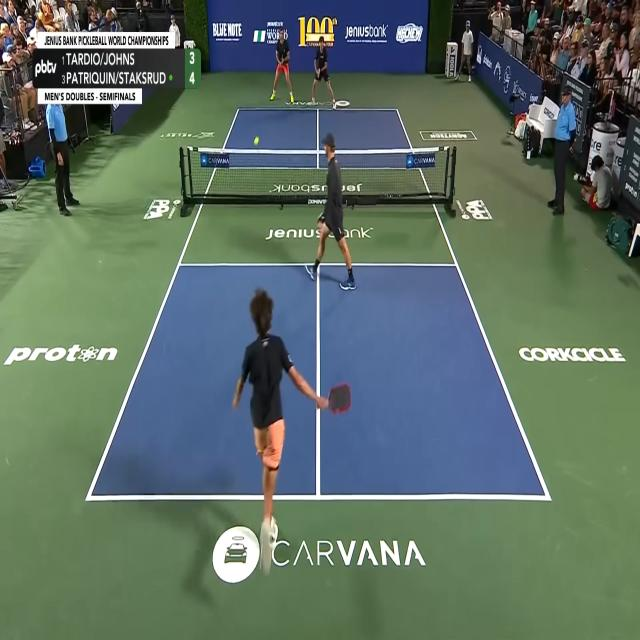ball: (253, 136, 260, 146)
